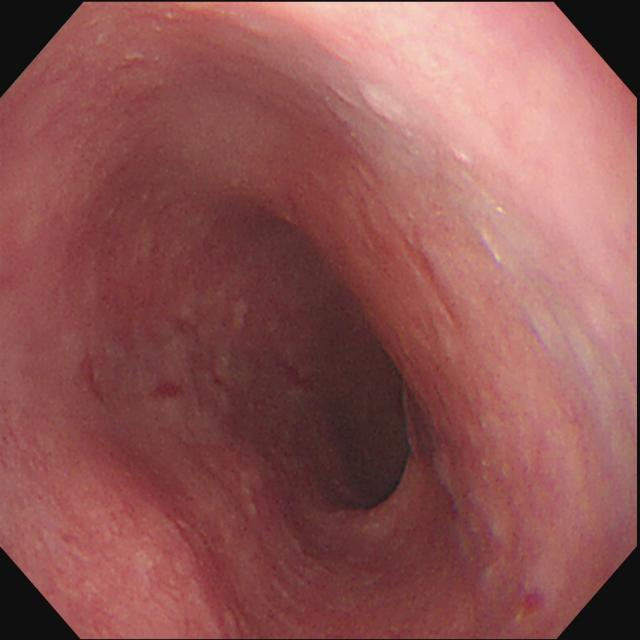A: (81, 307, 265, 434)
E: (294, 329, 430, 531)
